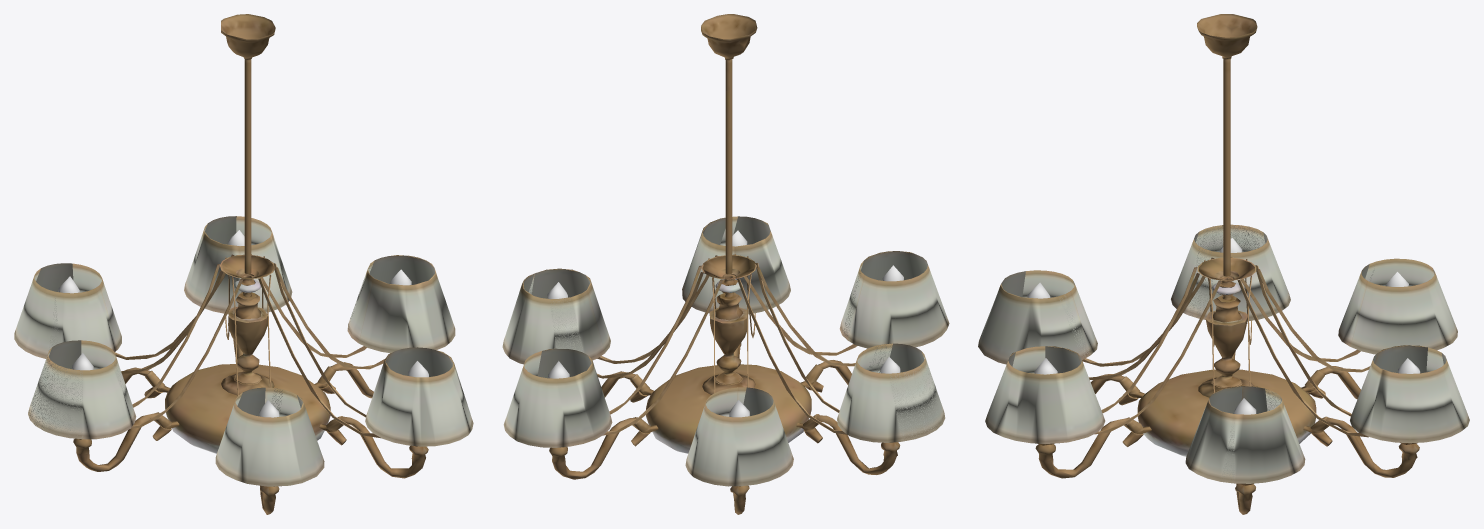
File: ph-chandelier-02.glb
3 renders of one model, left to right at view 1: azimuth 30°, elevation 25°; view 2: azimuth 150°, elevation 25°; view 3: azimuth 270°, elevation 25°, orthographic.
Visible parts, largest first — view 1: Chandelier_02; view 2: Chandelier_02; view 3: Chandelier_02.
Part boxes in pixels (x1=…): Chandelier_02: x1=14, y1=14, x2=473, y2=514; Chandelier_02: x1=502, y1=14, x2=949, y2=514; Chandelier_02: x1=978, y1=14, x2=1469, y2=514.
Bounding box in the file's own units: 0.995 × 1 × 1.
Materials: 2 (1 with a texture image).
